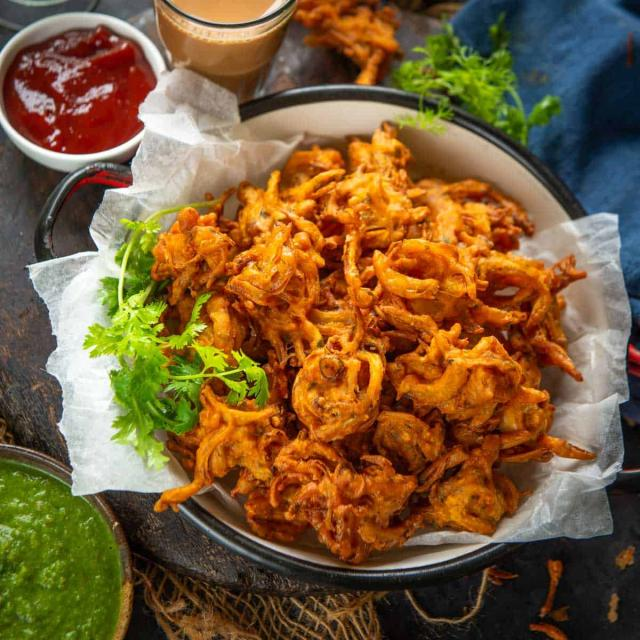BAJI: (121, 130, 572, 554)
